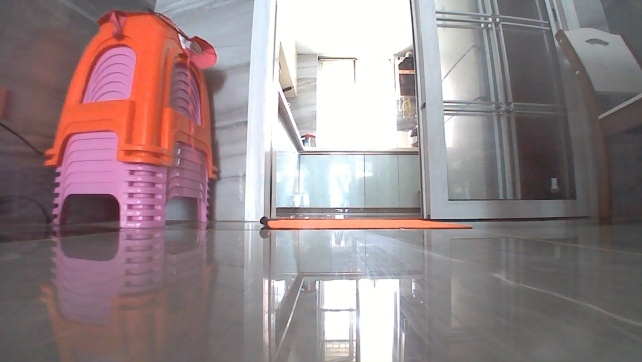blanket: (259, 214, 475, 235)
cupboard: (269, 85, 423, 216)
wire: (0, 118, 45, 156), (0, 193, 51, 224)
